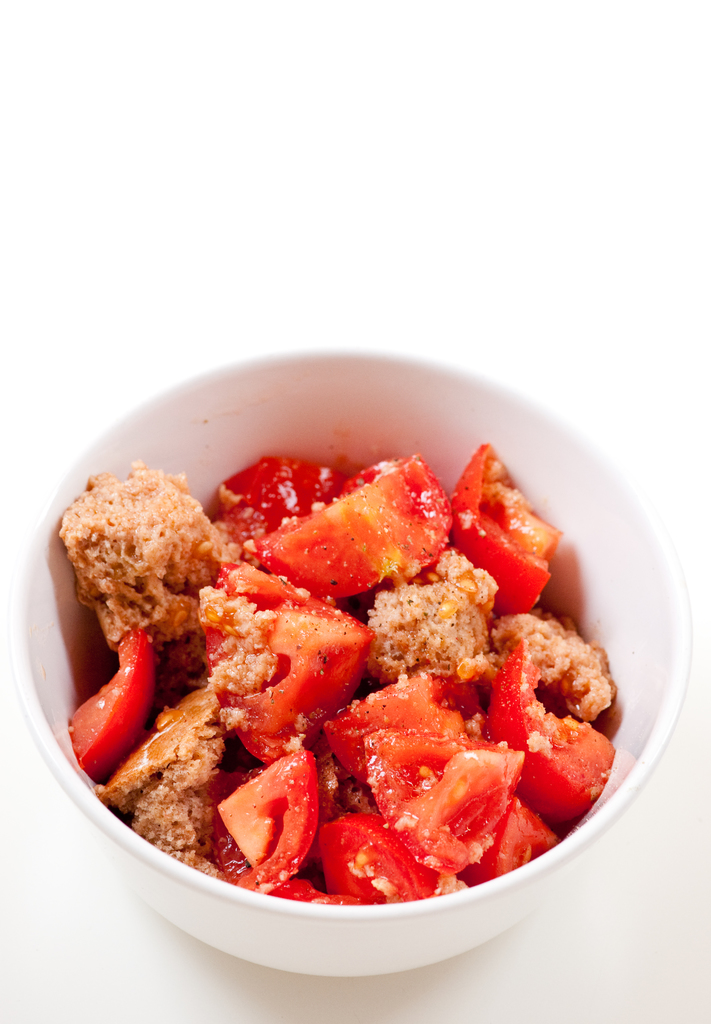Tomato: (207, 599, 373, 763), (356, 726, 526, 868), (256, 476, 423, 604), (435, 463, 570, 606), (327, 661, 473, 785), (211, 747, 321, 896), (67, 628, 155, 776), (316, 810, 456, 903), (478, 637, 554, 742), (492, 800, 556, 868)
